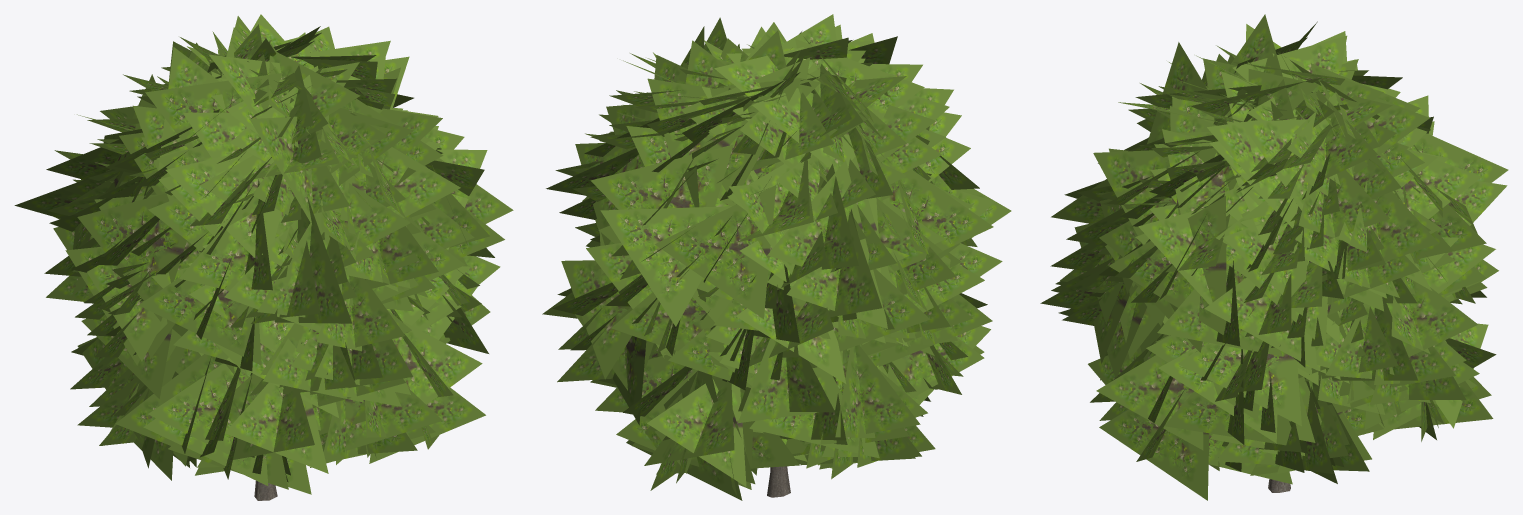
File: Castanea_Dentata_Spring_Young.glb
3 renders of one model, left to right at view 1: azimuth 30°, elevation 25°; view 2: azimuth 150°, elevation 25°; view 3: azimuth 270°, elevation 25°, orthographic. The views are drawn at different scales.
Parts seen in each view (by area): view 1: Castanea_Dentata_Spring_Young__LOD3; view 2: Castanea_Dentata_Spring_Young__LOD3; view 3: Castanea_Dentata_Spring_Young__LOD3.
Part boxes in pixels (box(x1,y1,x2,y2)): Castanea_Dentata_Spring_Young__LOD3: box(14, 14, 513, 500); Castanea_Dentata_Spring_Young__LOD3: box(542, 14, 1011, 500); Castanea_Dentata_Spring_Young__LOD3: box(1040, 14, 1508, 500).
Size of the model in its own units: 12.78 by 13.91 by 13.28.
Materials: 2 (2 with a texture image).
